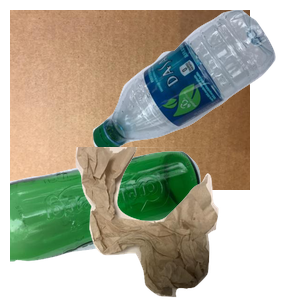cardboard: (10, 10, 250, 190)
glass: (10, 149, 203, 300)
plastic: (90, 10, 300, 156)
trash: (73, 147, 300, 300)
